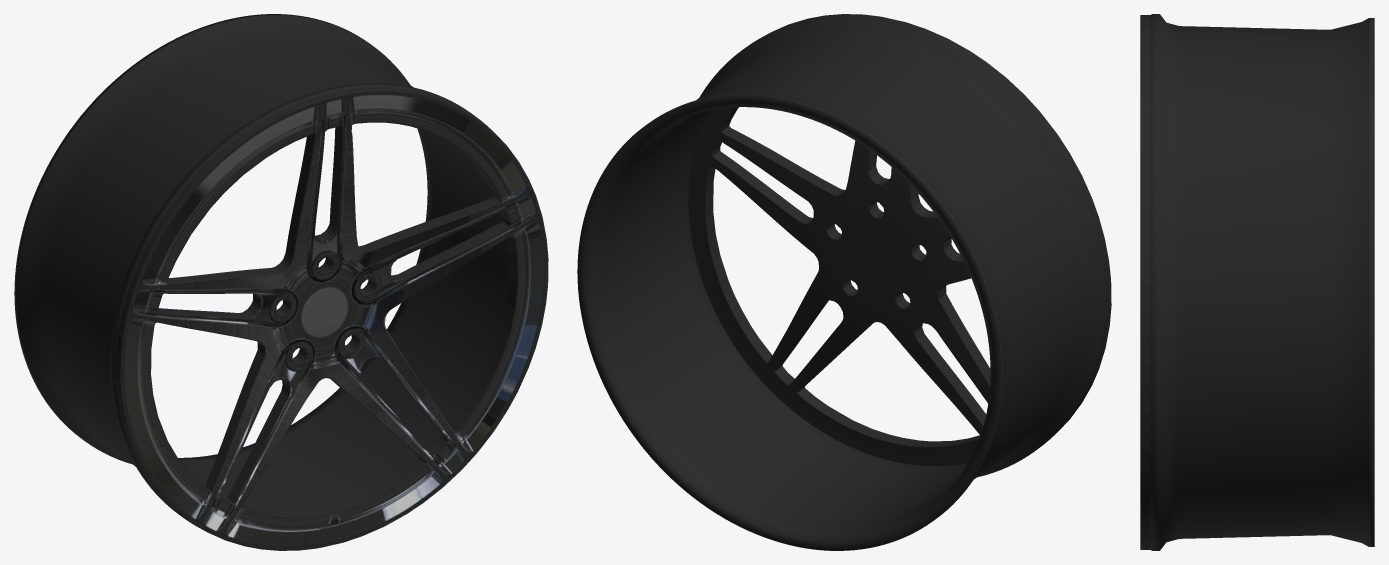
Rendered from e6-monoblock-ms6.glb.
3 views of the same model, side by side, from view 1: azimuth 30°, elevation 25°; view 2: azimuth 150°, elevation 25°; view 3: azimuth 270°, elevation 25° (orthographic). The views are drawn at different scales.
Parts seen in each view (by area): view 1: Approximate_rear_barrel, Photo_traced_face_0; view 2: Approximate_rear_barrel, Photo_traced_face_0; view 3: Approximate_rear_barrel, Photo_traced_face_0.
Boxes of the visible parts, x1,y1,x2,y2 form: Approximate_rear_barrel: [14, 14, 509, 529]; Photo_traced_face_0: [115, 87, 548, 550]; Approximate_rear_barrel: [577, 17, 1107, 550]; Photo_traced_face_0: [688, 14, 1111, 465]; Approximate_rear_barrel: [1150, 14, 1374, 550]; Photo_traced_face_0: [1140, 15, 1150, 549].
Size of the model in its own units: 2.06 by 2.06 by 0.9.
2 materials, 1 textured.
